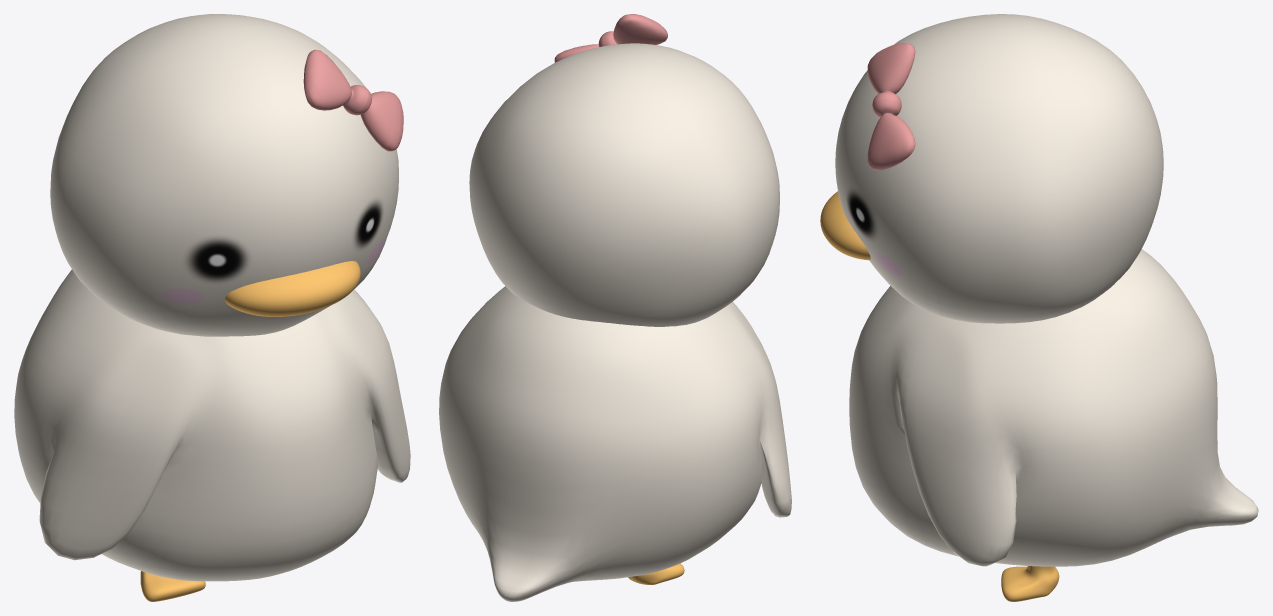
File: mamaduck.fbx
3 views of the same model, side by side, from view 1: azimuth 30°, elevation 25°; view 2: azimuth 150°, elevation 25°; view 3: azimuth 270°, elevation 25° (orthographic). The views are drawn at different scales.
Visible parts, largest first — view 1: mamabody.002, mamahead.002, bow.004, mamarightfoot.002; view 2: mamabody.002, mamahead.002, bow.004, mamarightfoot.002; view 3: mamabody.002, mamahead.002, bow.004, mamaleftfoot.002.
Part boxes in pixels (x1,y1,x2,y2): mamabody.002: (14,269,410,581); mamahead.002: (50,14,398,336); bow.004: (303,49,403,151); mamarightfoot.002: (140,571,205,601); mamabody.002: (439,286,791,601); mamahead.002: (469,43,779,326); bow.004: (554,14,667,62); mamarightfoot.002: (628,563,684,584); mamabody.002: (849,249,1258,566); mamahead.002: (820,14,1163,323); bow.004: (867,43,915,170); mamaleftfoot.002: (1001,566,1059,601).
Bounding box in the file's own units: 75.93 × 113 × 82.89.
3 materials, 1 textured.
